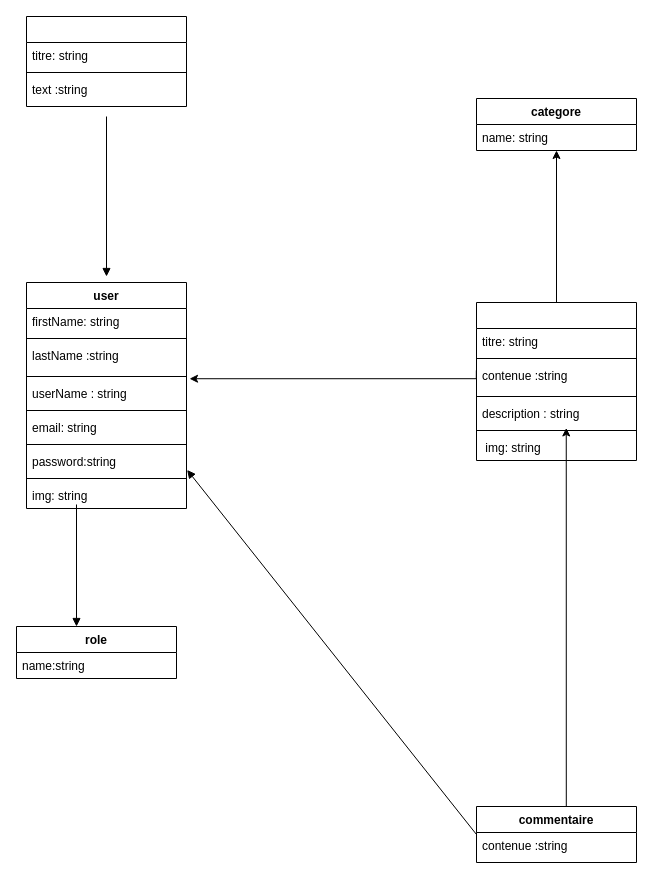
The diagram is 653 pixels wide and 879 high, and some of its shapes have lost their labels. Each missing label, with the box of its shape:
aiText: (26, 16, 186, 106)
article: (476, 302, 636, 460)
